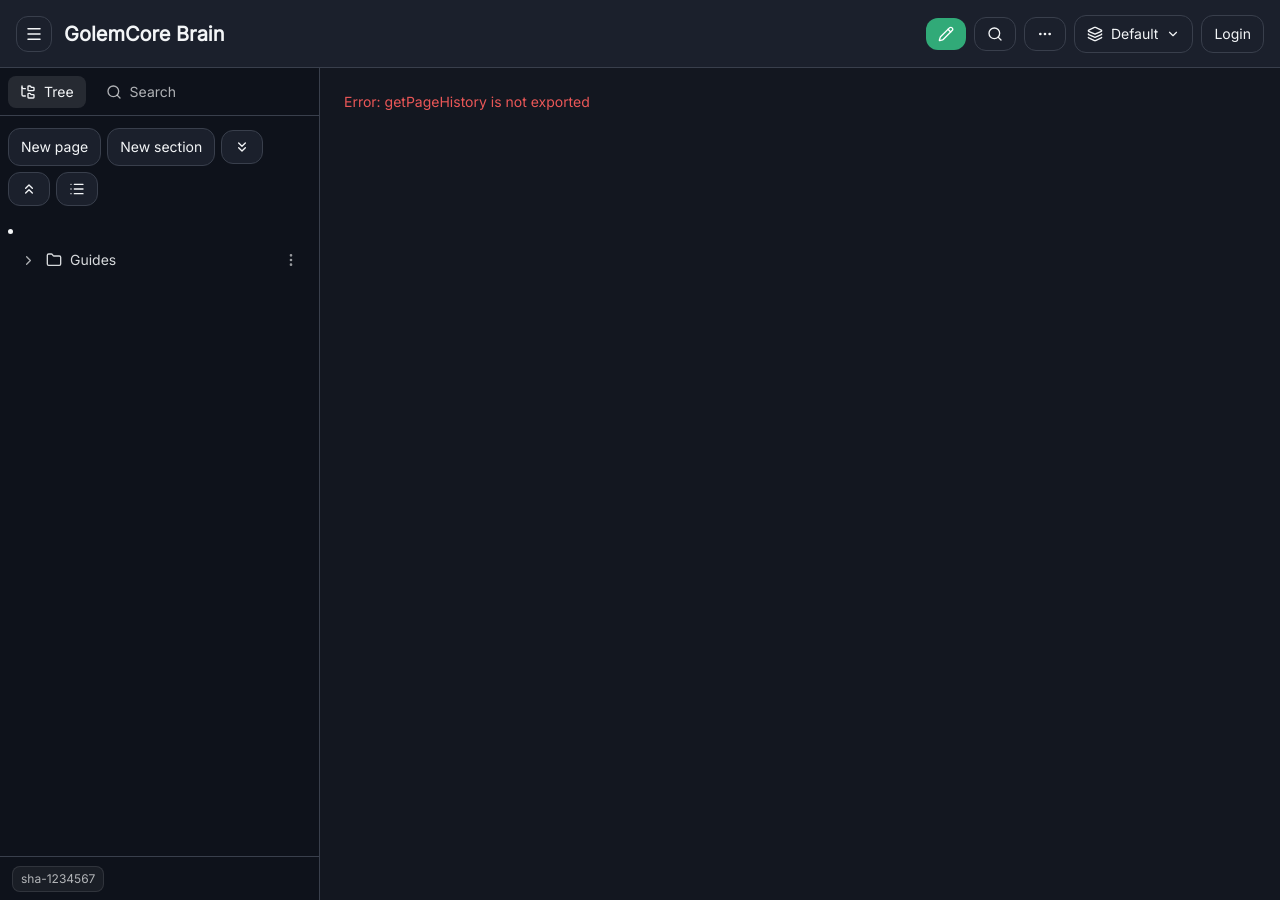
Scenario: App › opens the root page editor from the global edit action
Click the button named "Edit page". click: (946, 34)
box: x1=926 y1=18 x2=966 y2=50
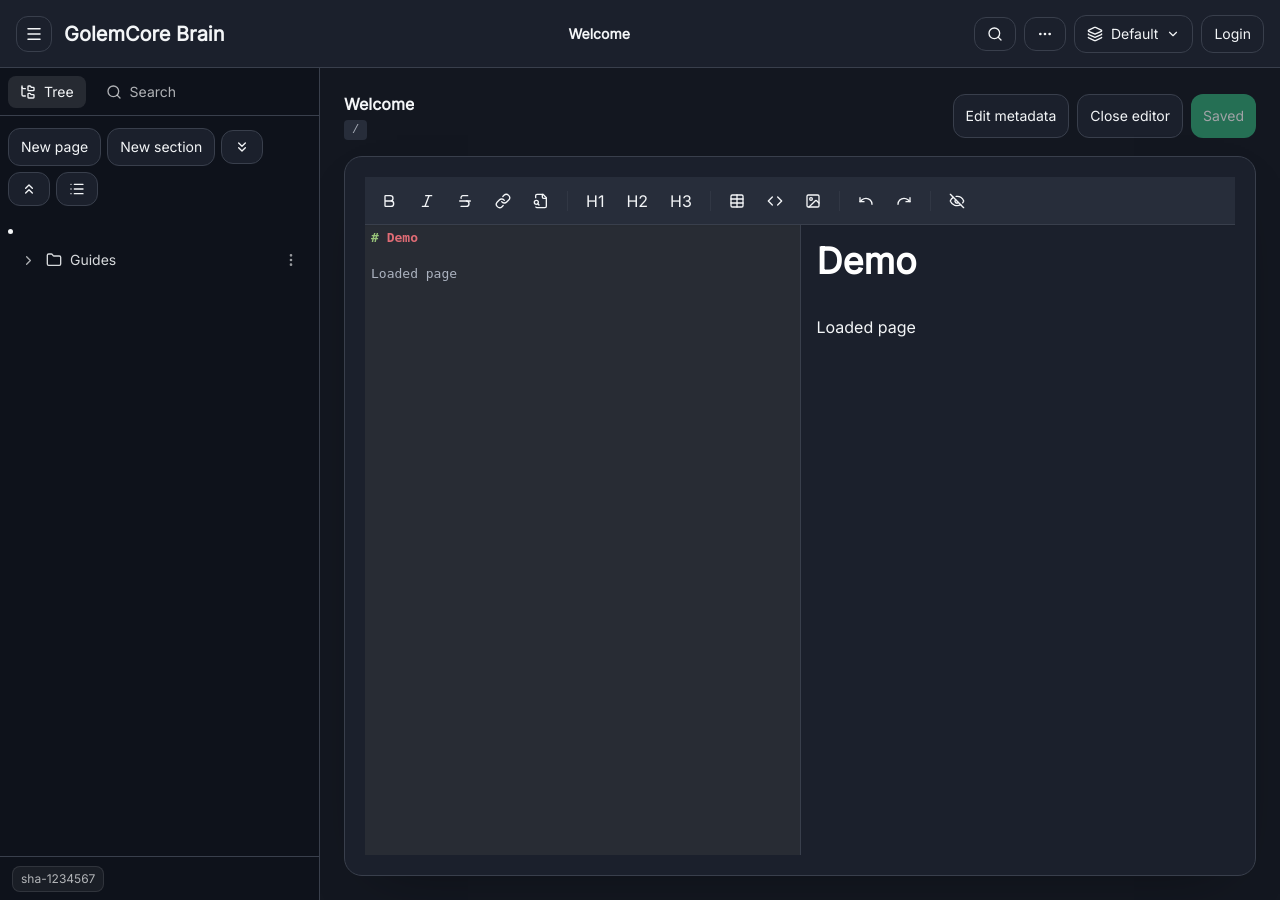
Now the button "Close editor" is shown, box x1=1077 y1=94 x2=1183 y2=138
